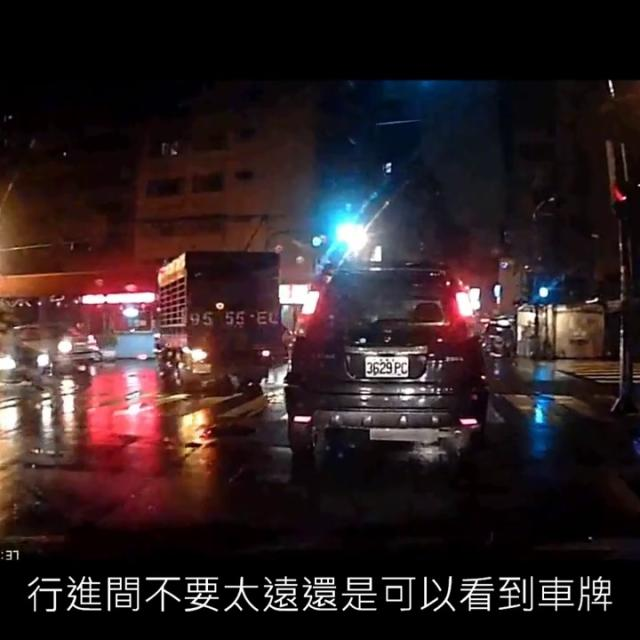Car: (280, 252, 487, 467), (5, 322, 96, 381)
